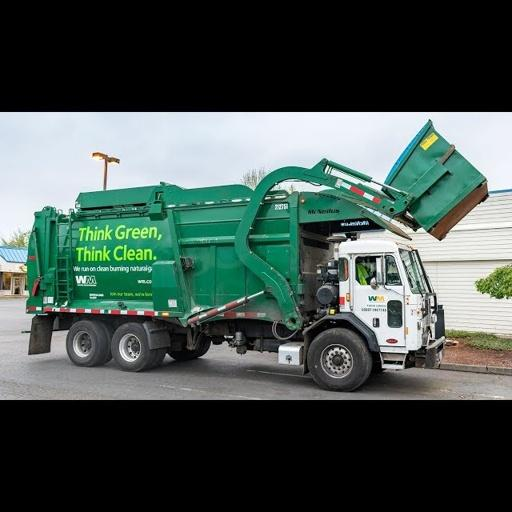truck: (26, 116, 490, 391)
